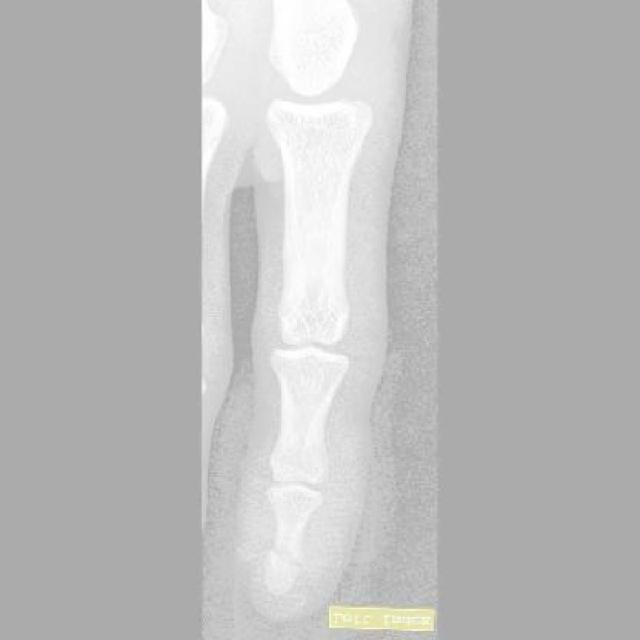Fracture: (260, 540, 308, 579)
